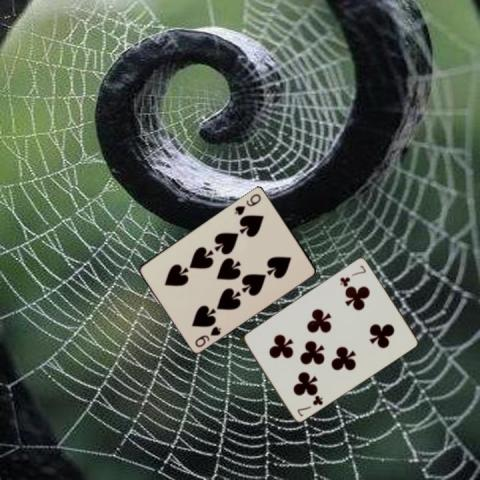7c: (294, 392, 325, 417), (337, 262, 367, 287)
9s: (231, 190, 263, 216), (192, 322, 223, 348)
